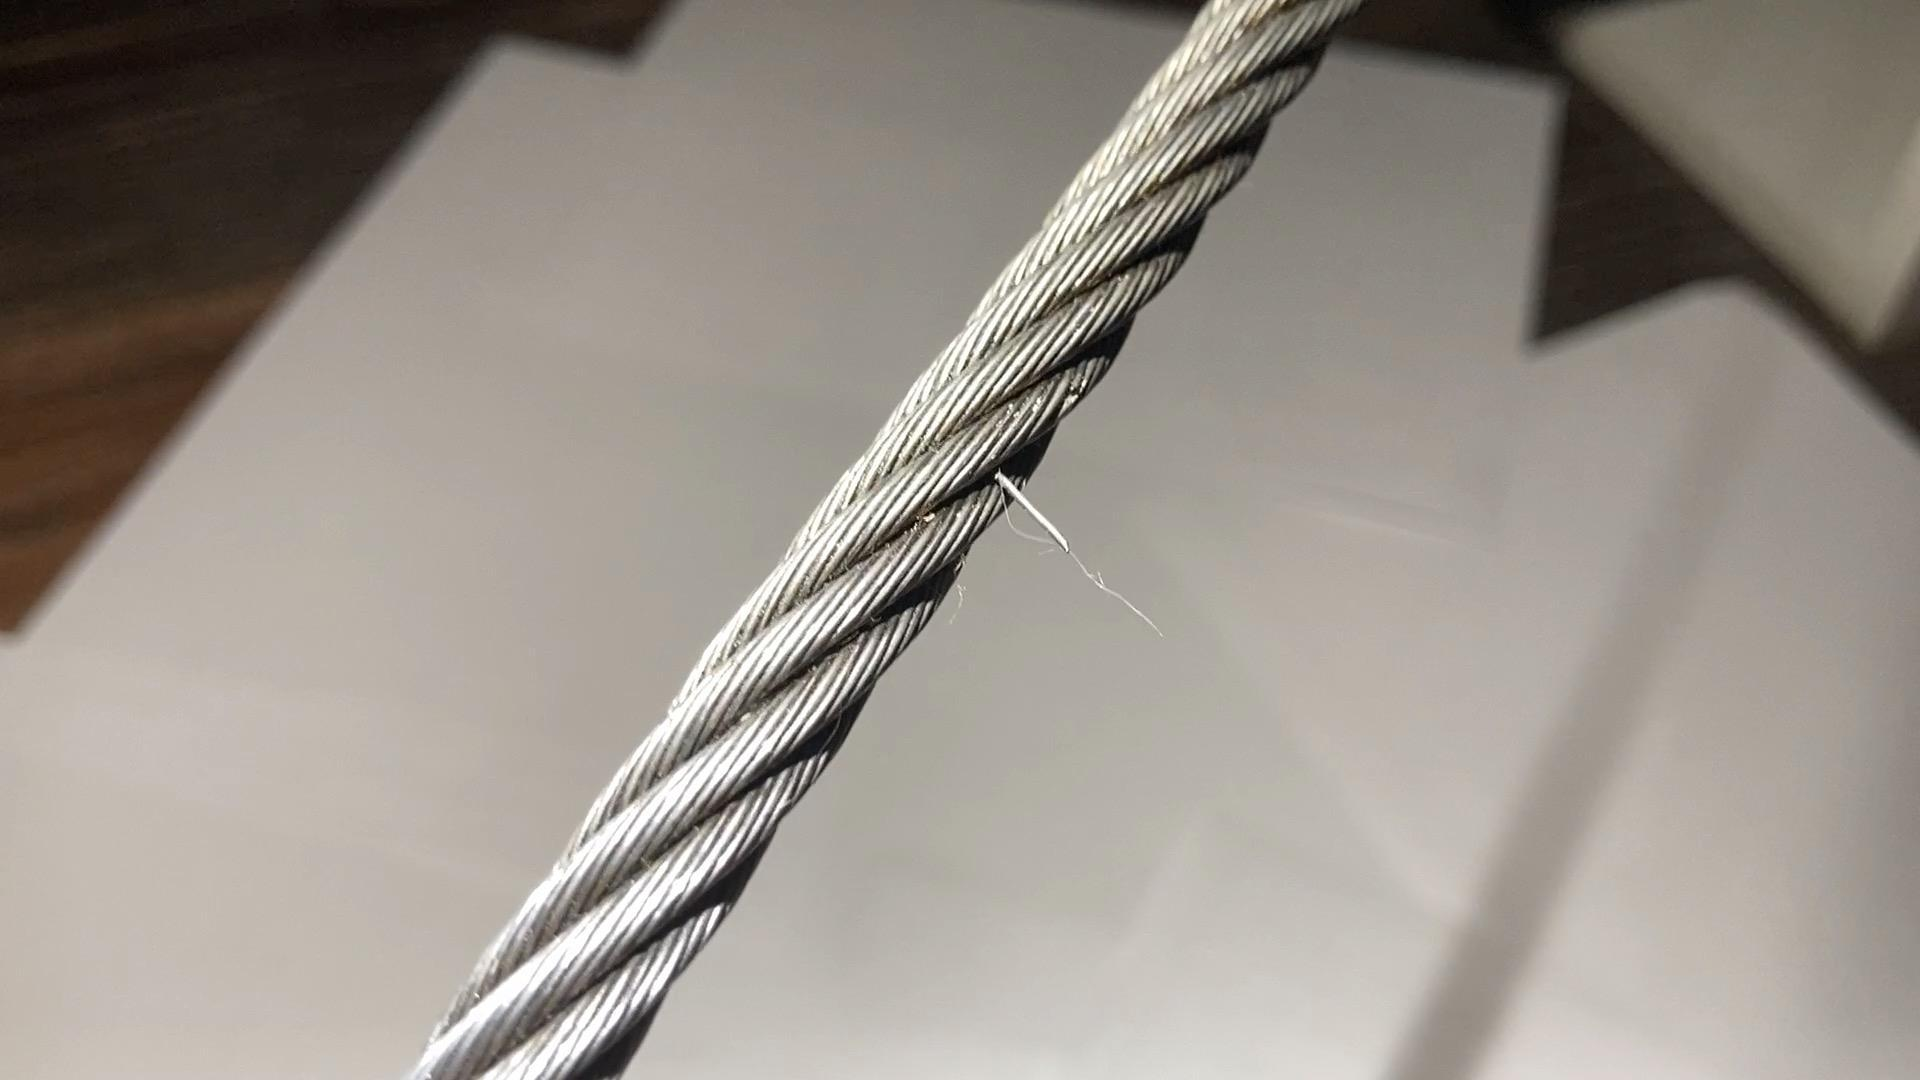break: (981, 460, 1091, 563)
